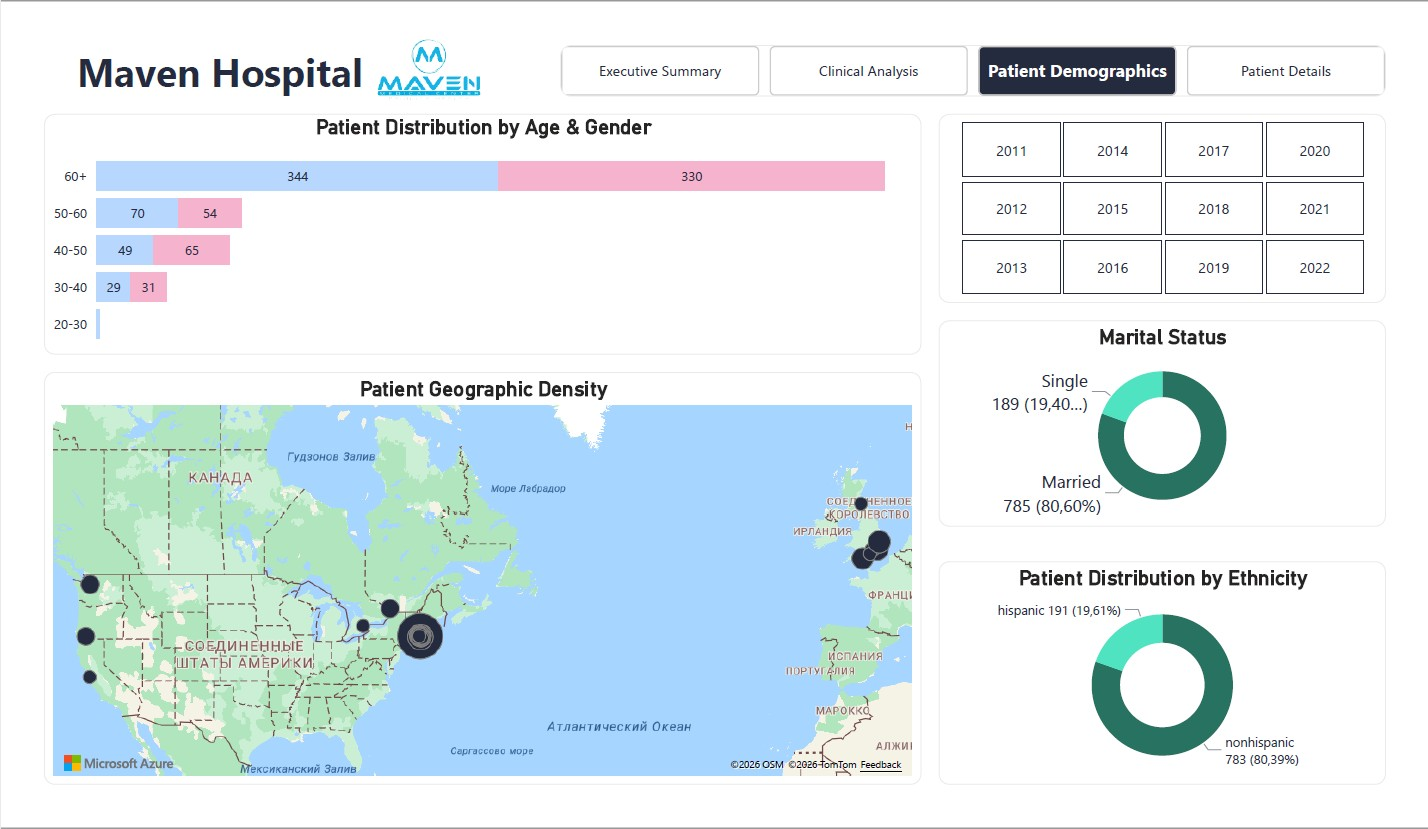

The dashboard page shown, as its layout file describes it:
{"tool":"powerbi","page":{"name":"Patient Demographics","canvas":[1280,720],"ordinal":2},"visuals":[{"type":"pageNavigator","box":[496,16,768,48],"z":0},{"type":"textbox","title":"Maven Hospital","box":[47,16,272,48],"z":1000},{"type":"image","box":[326,0,96,80],"z":2000},{"type":"barChart","title":"Patient Distribution by Age & Gender","fields":{"Category":["DimPatients.AgeGroup"],"Y":["_measures.UniqPatients"],"Series":["DimPatients.GENDER"]},"box":[16,80,816,224],"z":4000},{"type":"azureMap","title":"Patient Geographic Density","fields":{"Category":["DimPatients.CITY","DimPatients.STATE"],"Size":["_measures.UniqPatients"]},"box":[16,320,816,384],"z":5000},{"type":"donutChart","title":"Marital Status","fields":{"Y":["_measures.UniqPatients"],"Category":["DimPatients.MARITAL"]},"box":[848,272,416,192],"z":6000},{"type":"donutChart","title":"Patient Distribution by Ethnicity","fields":{"Y":["_measures.UniqPatients"],"Category":["DimPatients.ETHNICITY"]},"box":[848,496,416,208],"z":7000},{"type":"slicer","fields":{"Values":["DimCalendarDAX.Year"]},"box":[848,80,416,176],"z":8000}]}

Visuals, with their boxes on the page's 1280x720 design canvas (x1, y1, x2, y2). These are canvas units, not pixel positions in the 1428x829 screenshot, which may show the page scaled, cropped or inside an application window:
pageNavigator: 496, 16, 1264, 64
"Maven Hospital" textbox: 47, 16, 319, 64
image: 326, 0, 422, 80
"Patient Distribution by Age & Gender" barChart: 16, 80, 832, 304
"Patient Geographic Density" azureMap: 16, 320, 832, 704
"Marital Status" donutChart: 848, 272, 1264, 464
"Patient Distribution by Ethnicity" donutChart: 848, 496, 1264, 704
slicer - DimCalendarDAX.Year: 848, 80, 1264, 256
